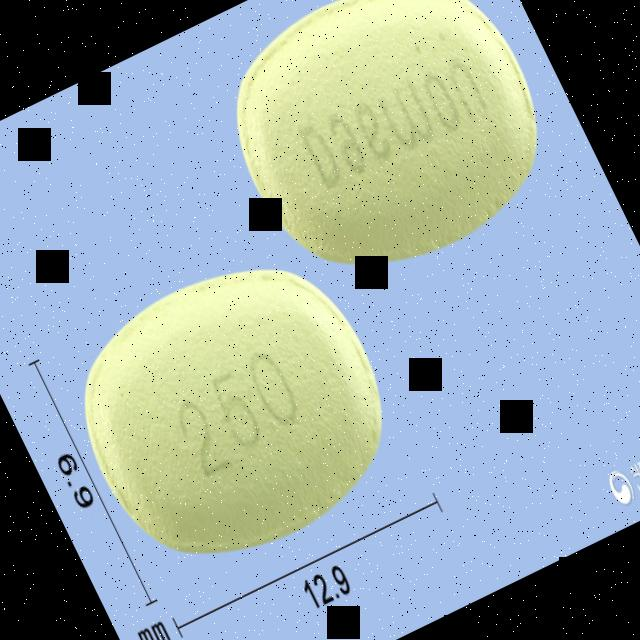Clasin: (41, 222, 423, 598), (195, 0, 583, 316)
